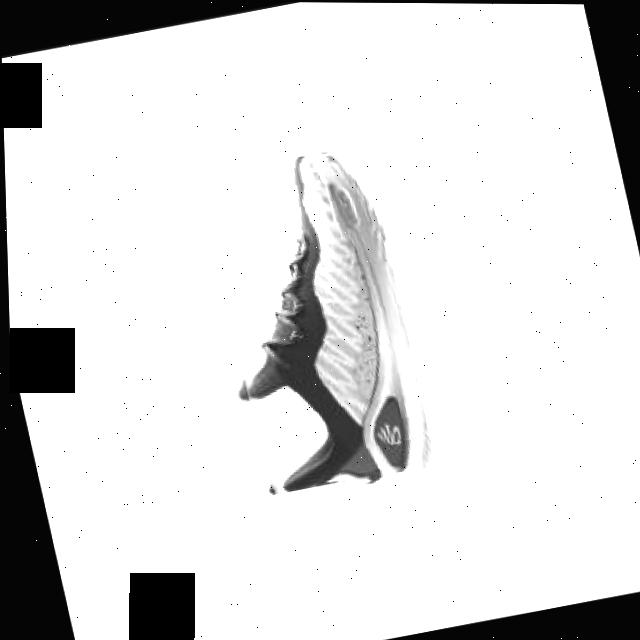shoe: (186, 136, 437, 511)
